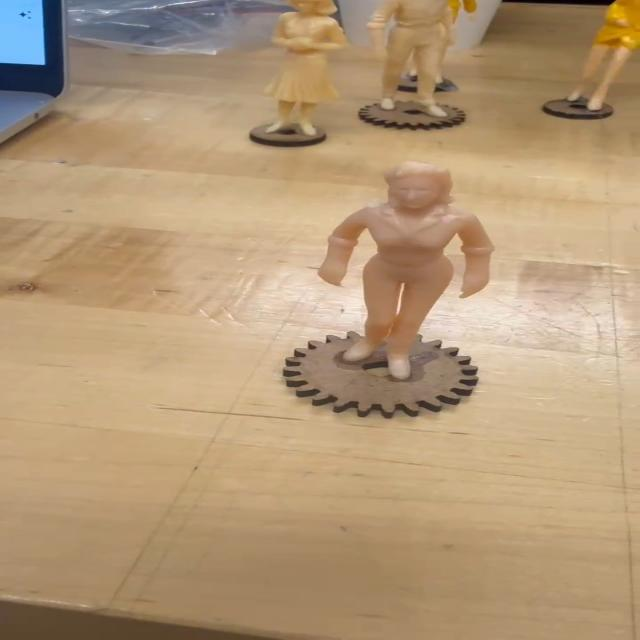Unauthorized: (260, 157, 543, 440)
